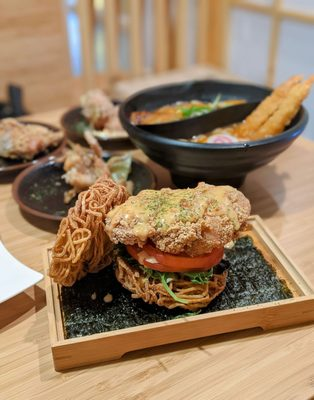sushi: (118, 76, 310, 185)
